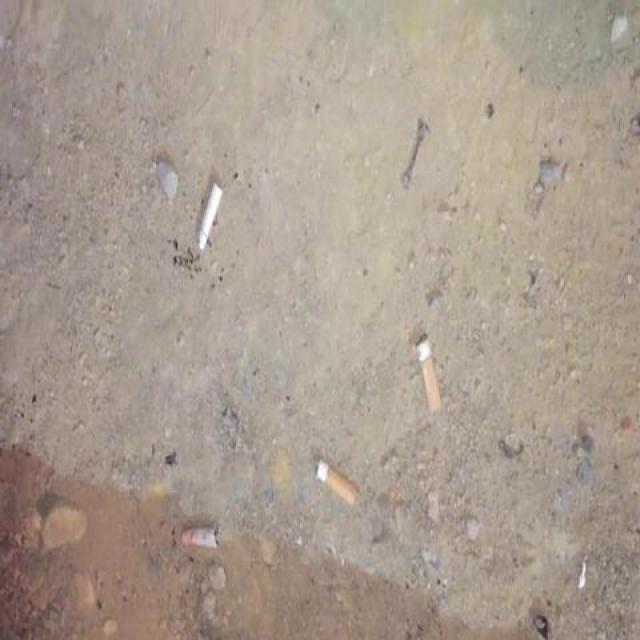non-organic waste: (310, 453, 370, 512), (412, 330, 447, 418), (192, 176, 229, 256)
